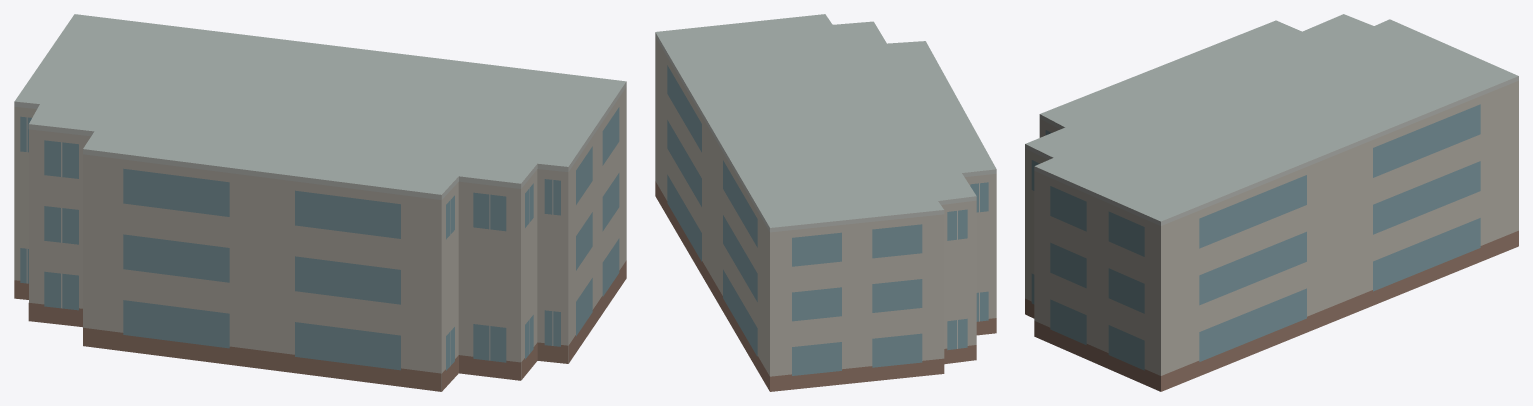
File: survey-upis-32470416.glb
3 renders of one model, left to right at view 1: azimuth 30°, elevation 25°; view 2: azimuth 150°, elevation 25°; view 3: azimuth 270°, elevation 25°, orthographic. The views are drawn at different scales.
Parts seen in each view (by area): view 1: survey-upis-32470416.tmp; view 2: survey-upis-32470416.tmp; view 3: survey-upis-32470416.tmp.
Boxes of the visible parts, x1,y1,x2,y2 form: survey-upis-32470416.tmp: (14,14,626,391); survey-upis-32470416.tmp: (655,14,996,391); survey-upis-32470416.tmp: (1025,14,1518,391).
Bounding box in the file's own units: 23.92 × 9.15 × 24.05.
